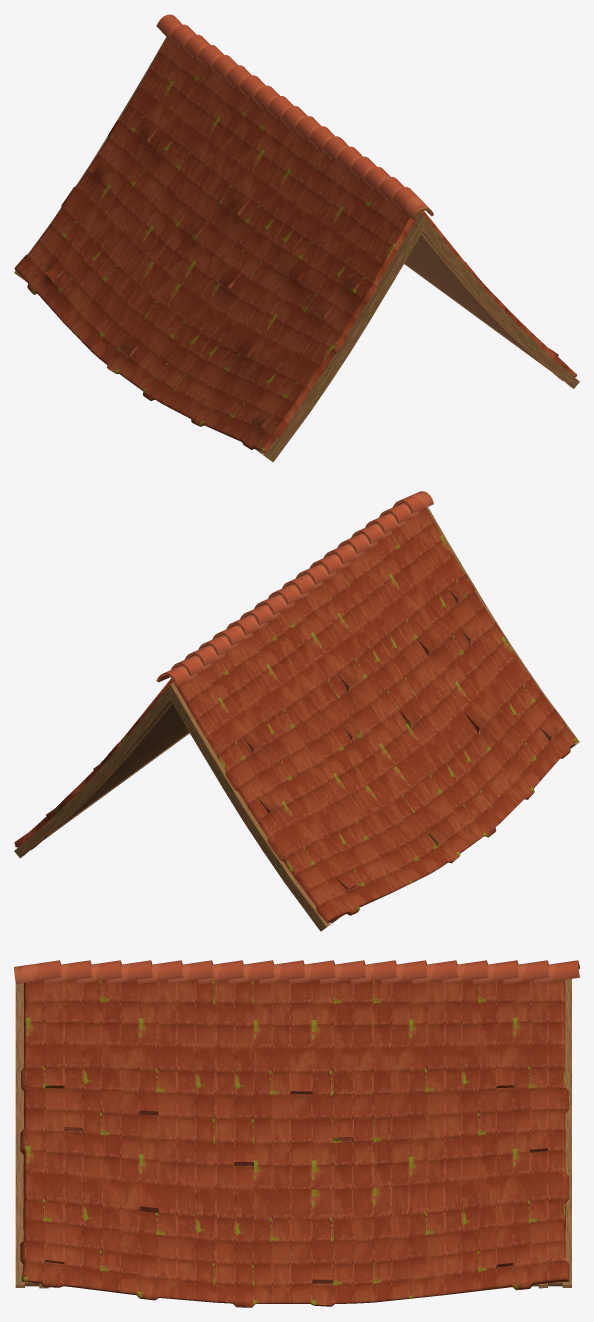
Rendered from Roof_FlatTiles_8x12.gltf.
3 views of the same model, one above another, from view 1: azimuth 30°, elevation 25°; view 2: azimuth 150°, elevation 25°; view 3: azimuth 270°, elevation 25° (orthographic). The views are drawn at different scales.
Parts seen in each view (by area): view 1: Roof_FlatTiles_8x12; view 2: Roof_FlatTiles_8x12; view 3: Roof_FlatTiles_8x12.
Boxes of the visible parts, left/top/right/bottom form: Roof_FlatTiles_8x12: left=14, top=14, right=579, bottom=462; Roof_FlatTiles_8x12: left=14, top=491, right=579, bottom=931; Roof_FlatTiles_8x12: left=14, top=960, right=579, bottom=1307.
Size of the model in its own units: 10.98 by 6.99 by 14.13.
3 materials, 3 textured.
